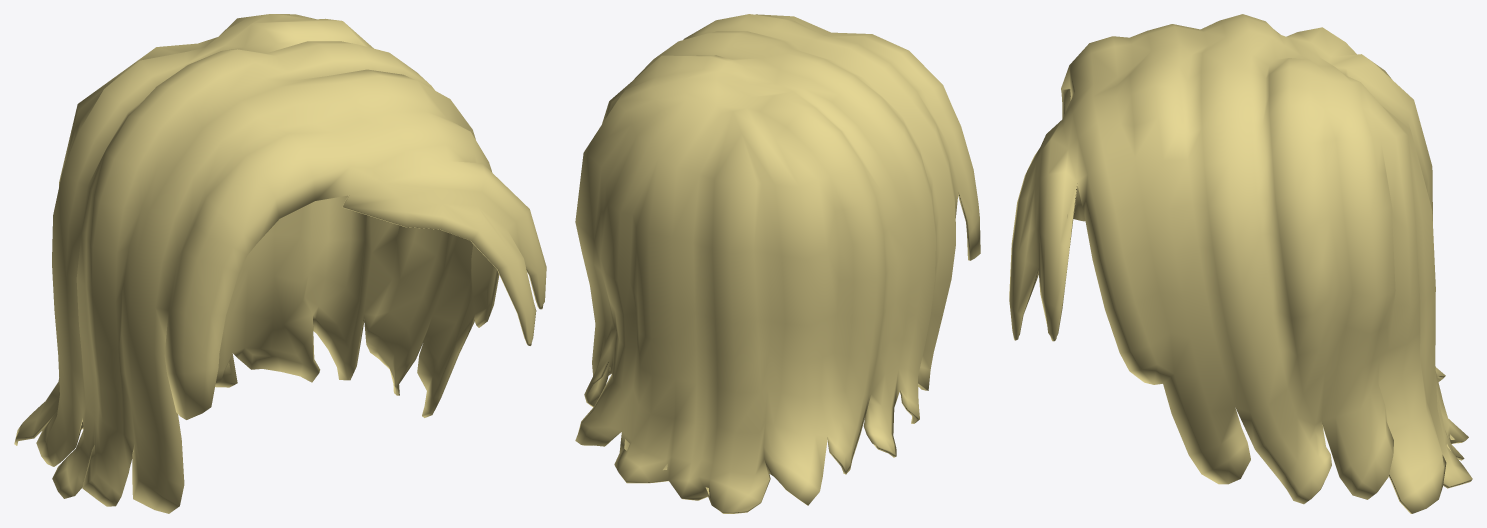
Rendered from hair_male.fbx.
The picture shows the model from 3 angles, left to right: view 1: azimuth 30°, elevation 25°; view 2: azimuth 150°, elevation 25°; view 3: azimuth 270°, elevation 25°; orthographic projection. The views are drawn at different scales.
Visible parts, largest first — view 1: hair_1_block; view 2: hair_1_block; view 3: hair_1_block.
Boxes of the visible parts, left/top/right/bottom form: hair_1_block: left=14, top=14, right=546, bottom=513; hair_1_block: left=575, top=14, right=980, bottom=513; hair_1_block: left=1009, top=14, right=1472, bottom=513.
Size of the model in its own units: 0.4614 by 0.5323 by 0.5221.
